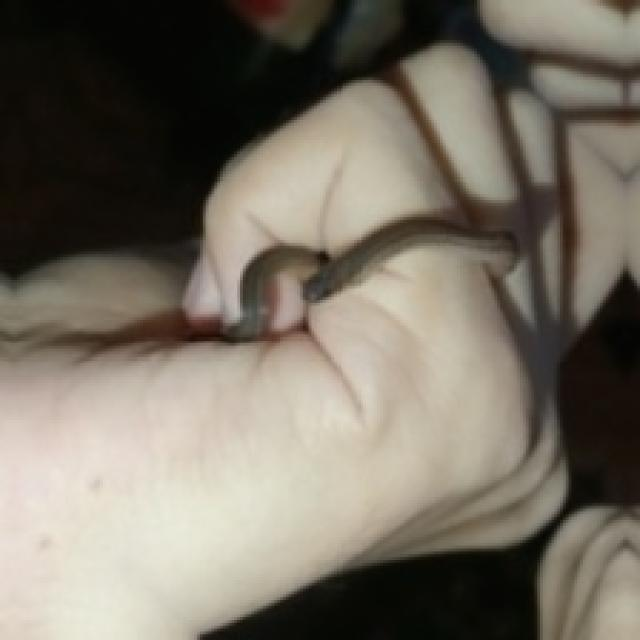gervais worm snake: (220, 217, 517, 337)
